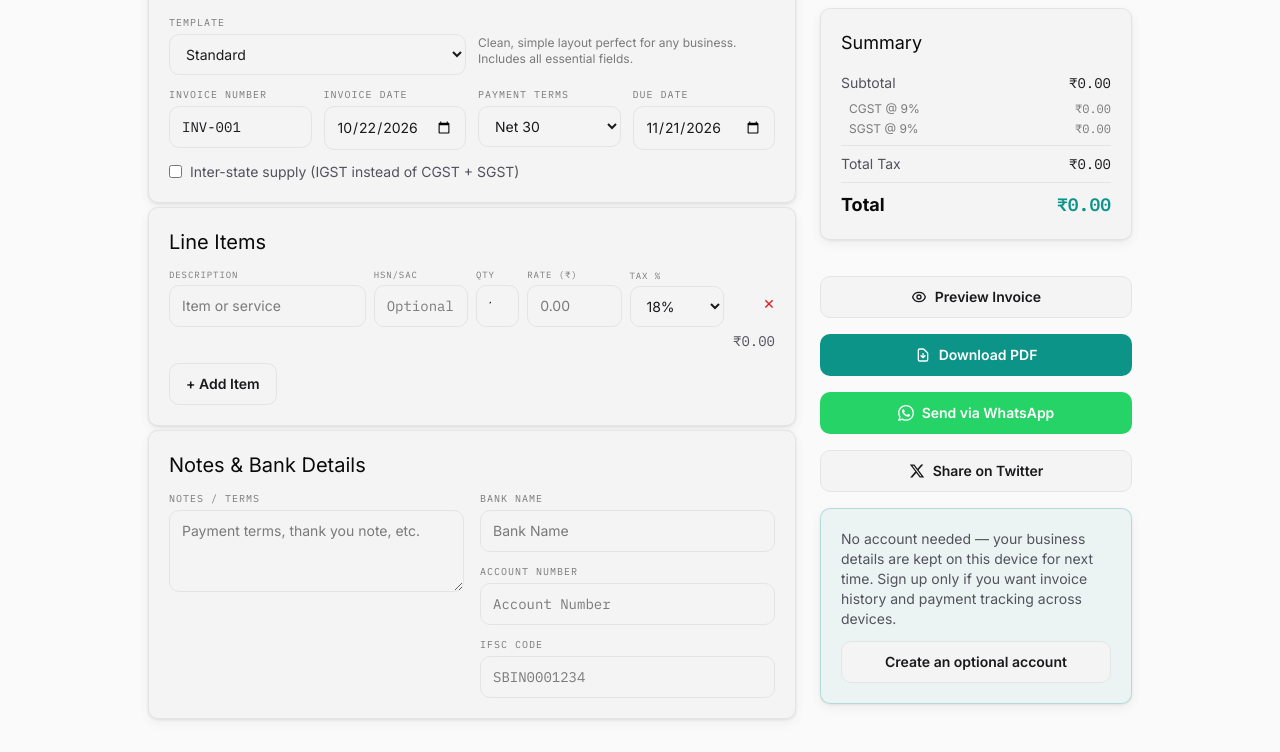
Test: CreateInvoicePage › adds a new line item when clicking add
(page scrolled)
Check: the number of fields with placeholder "Item or service" is 1, box [169, 285, 366, 327]
Click the button "+ Add Item".
click(223, 384)  # box [169, 363, 277, 405]
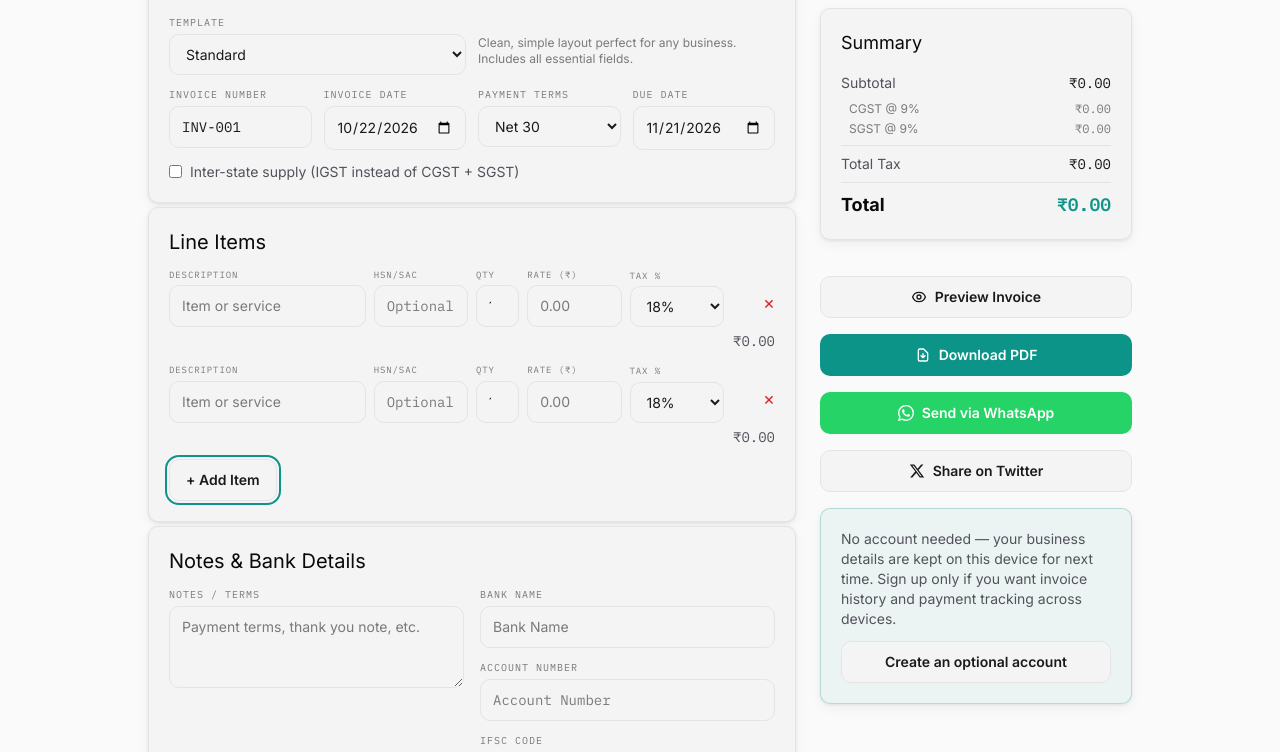
Check: the number of fields with placeholder "Item or service" is 2, box [169, 285, 366, 327]; [169, 380, 366, 422]
